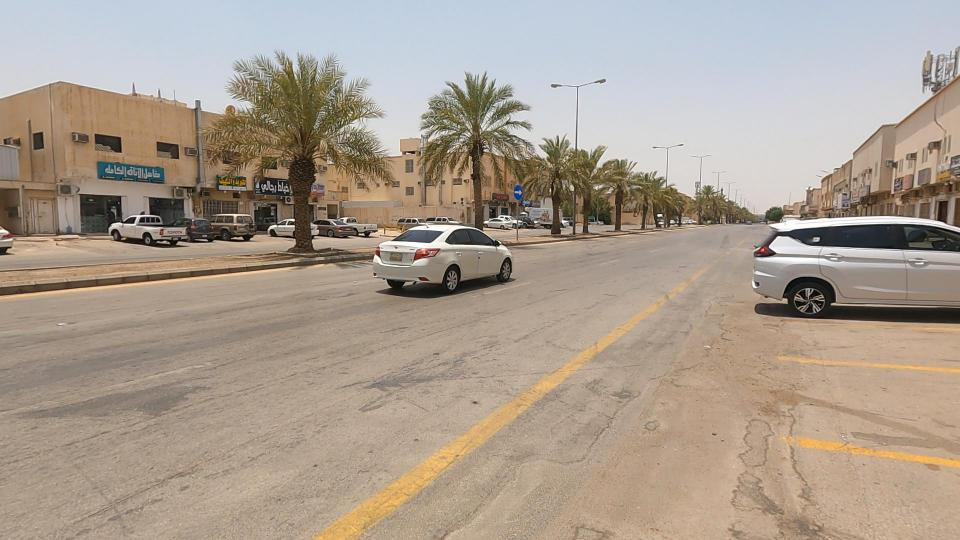BAD_BILLBOARD: (864, 156, 960, 224), (831, 171, 908, 226)
